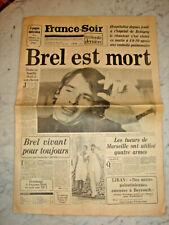paper: (14, 18, 164, 216)
